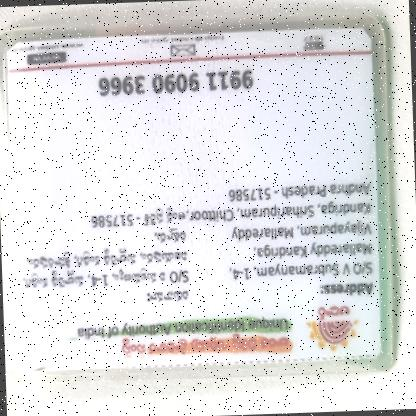aadhaar_card: (2, 24, 392, 381)
